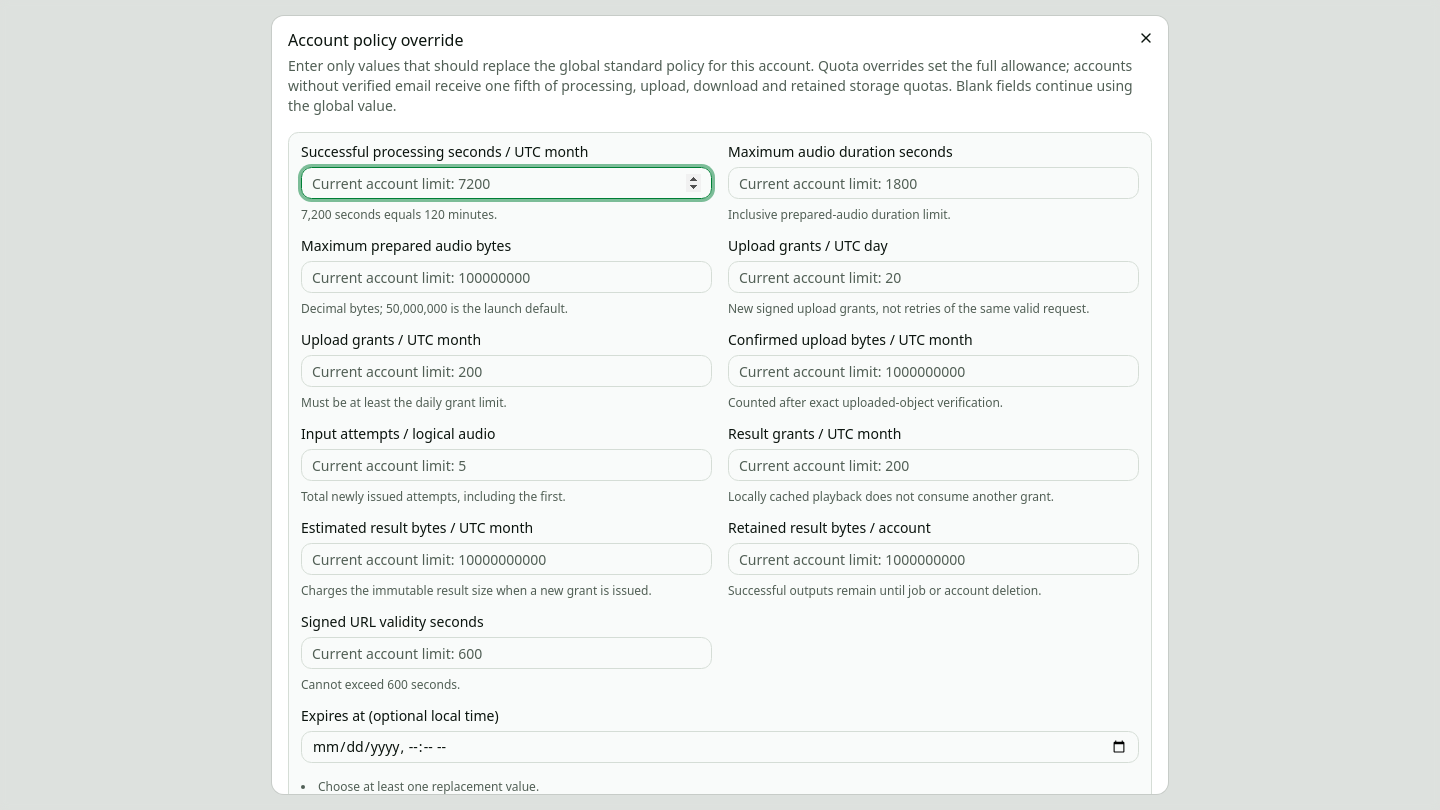
account policy override quotas › keeps a partial override open when the backend rejects its raw global-policy combination
In the number field labelled "Upload grants / UTC month": [506, 371] box [301,355,712,387], type "50"
(page scrolled)
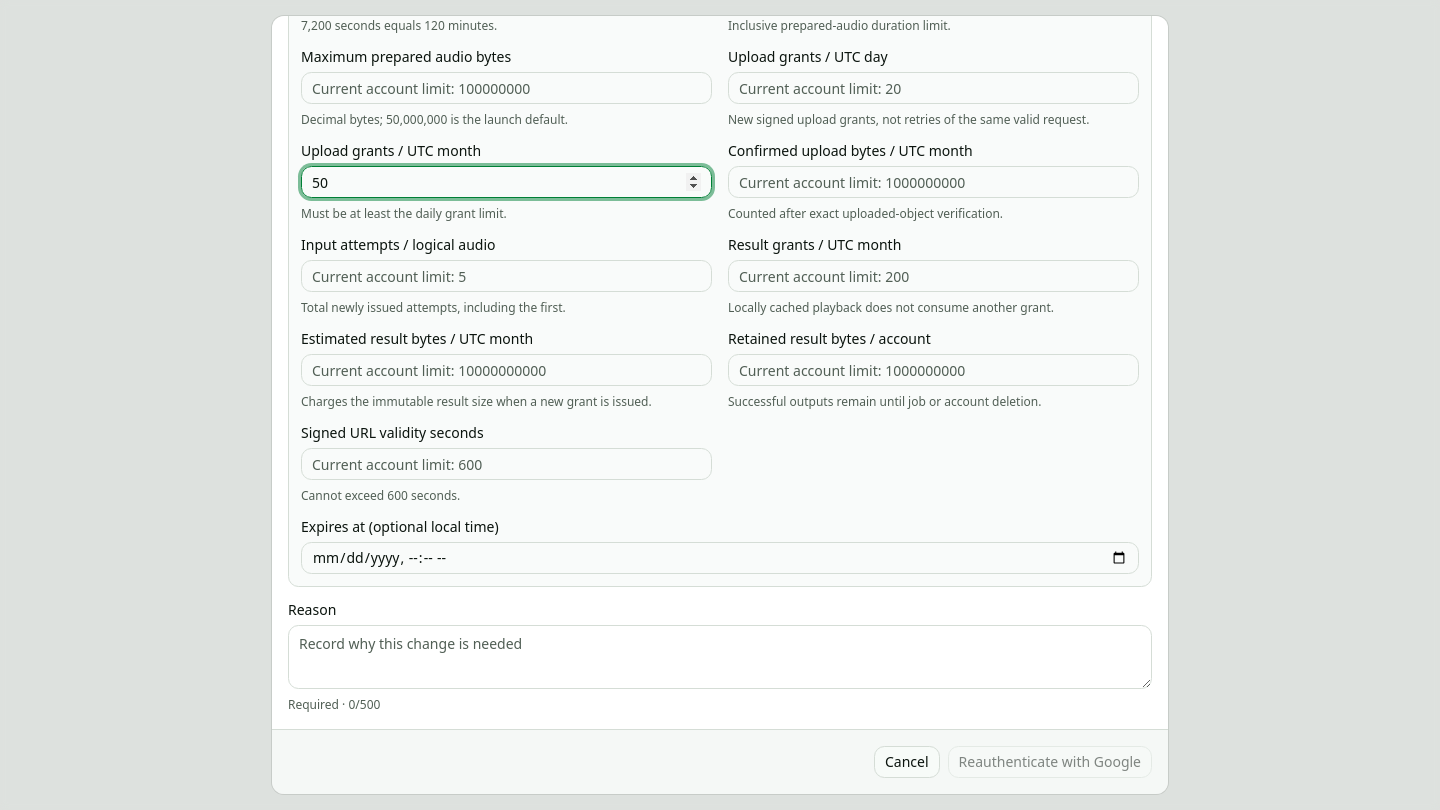
In the text box labelled "Reason": [720, 657] box [288,625,1152,689], type "Adjust account allowance"
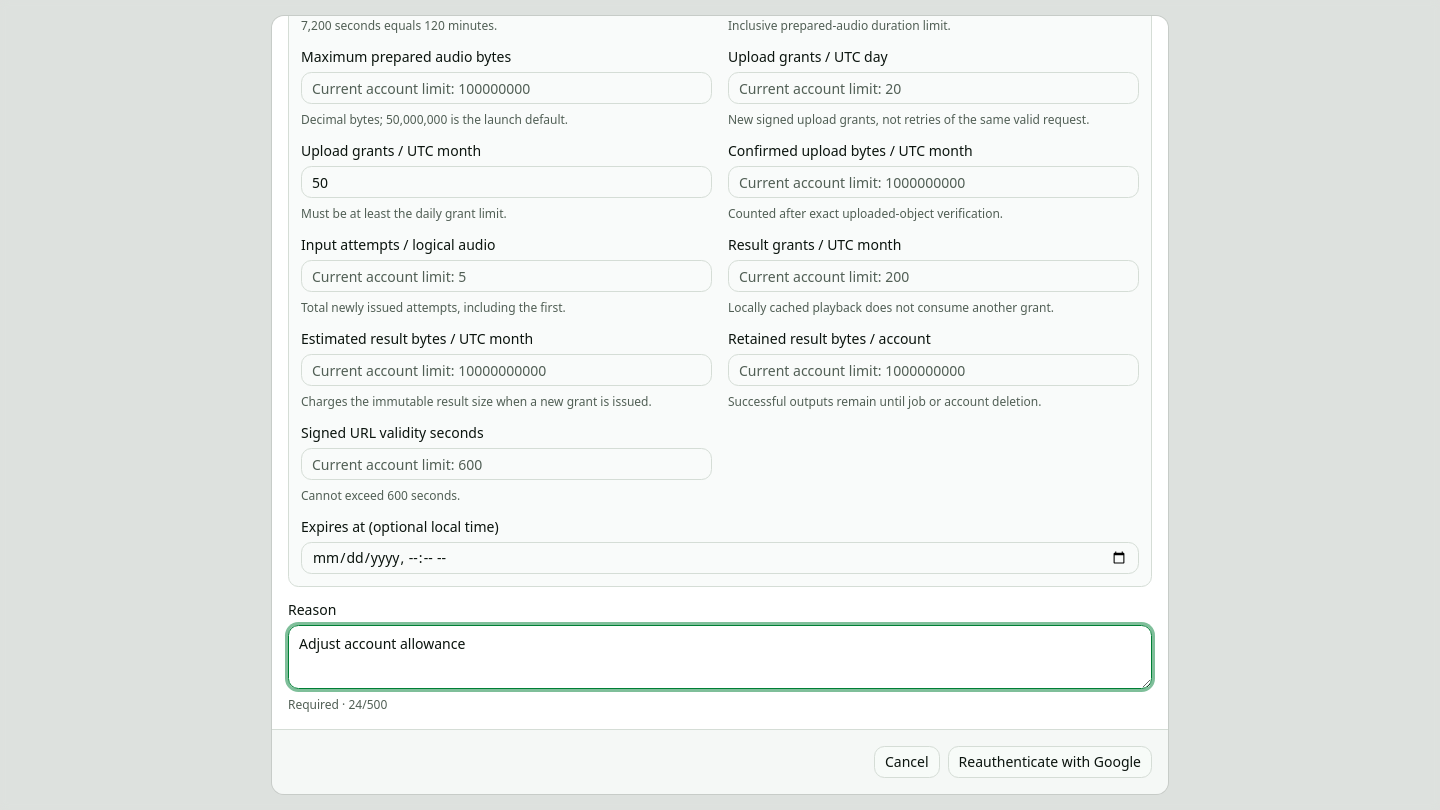
Click the button "Reauthenticate with Google": [1050, 762] box [948,746,1152,778]
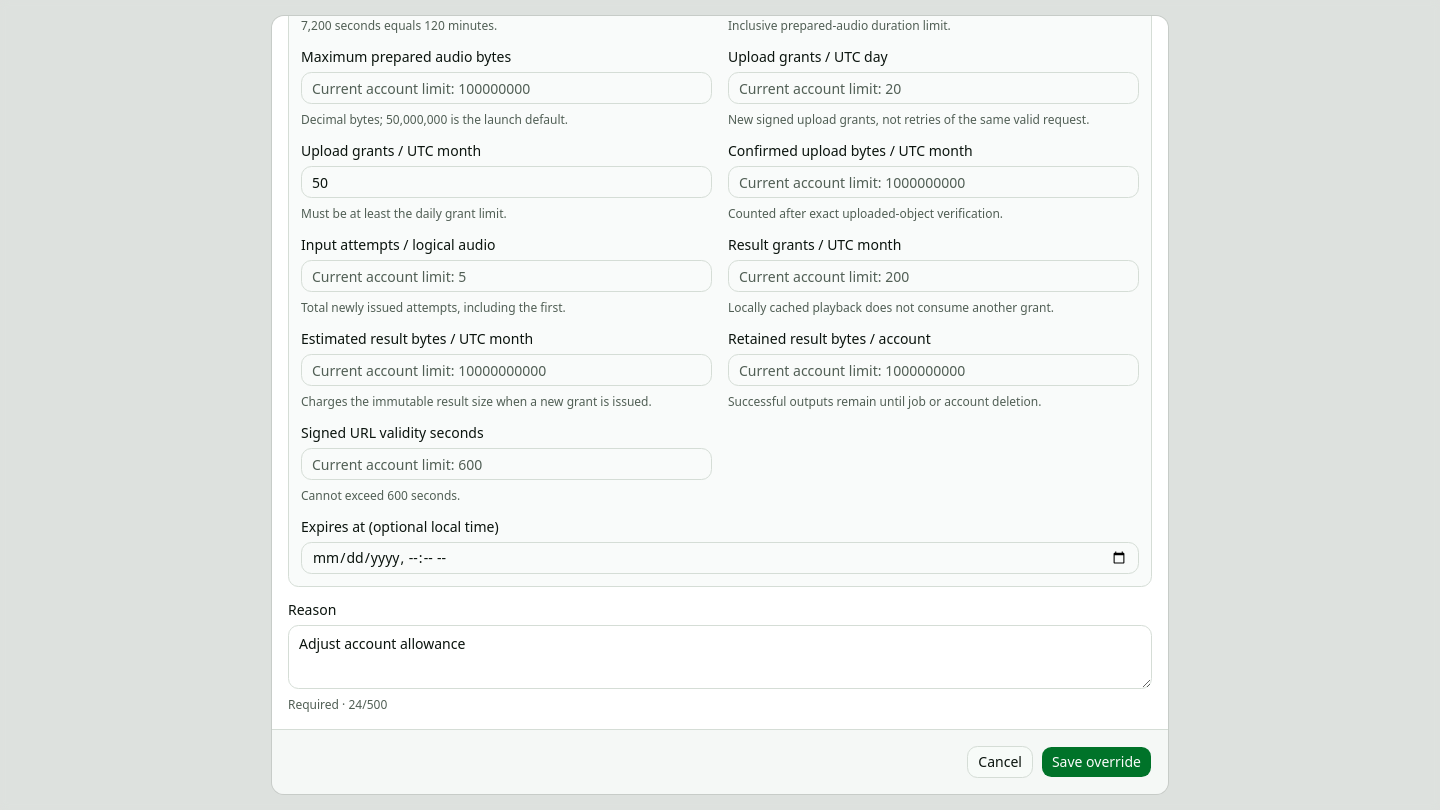
Click the button "Save override": [1096, 762] box [1041,746,1152,778]
(page scrolled)
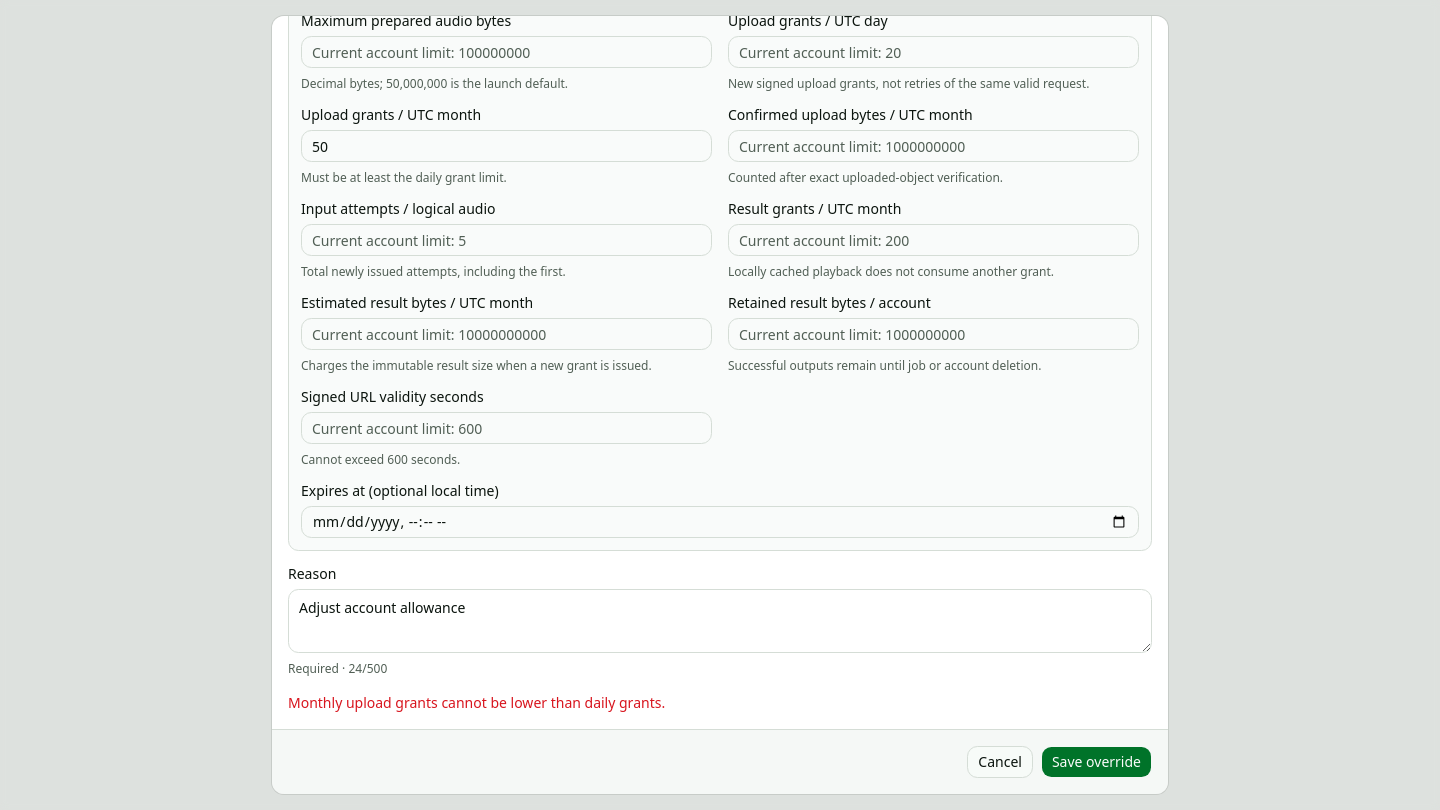
Result: the button "Save override" is enabled at [1041,746,1152,778]
Result: the message reads "Monthly upload grants cannot be lower than daily grants." at [288,693,665,712]
